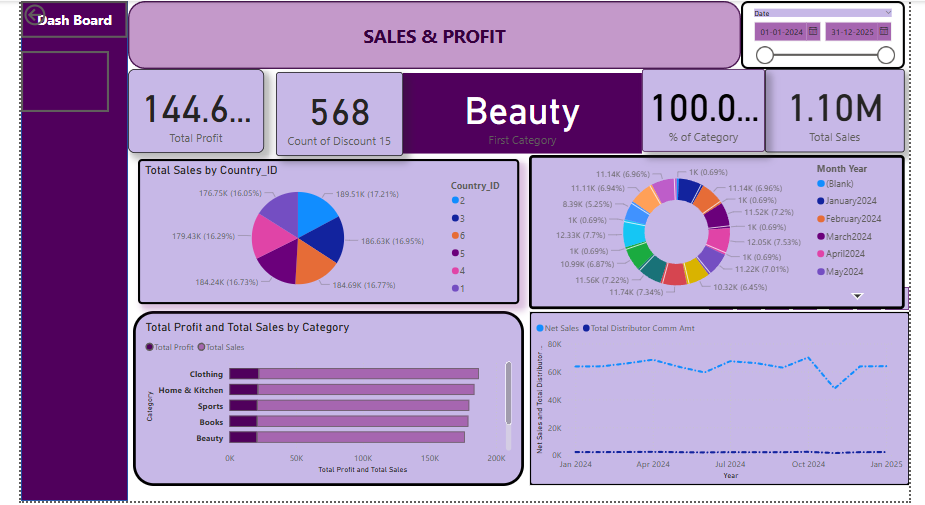

The dashboard page shown, as its layout file describes it:
{"tool":"powerbi","page":{"name":"Page 7","canvas":[1280,720],"ordinal":19},"visuals":[{"type":"shape","box":[0,0,154.1,720],"z":0},{"type":"actionButton","box":[0,0,154.1,53.3],"z":1000},{"type":"shape","box":[154.1,0,882.7,97.9],"z":2000},{"type":"slicer","fields":{"Values":["DateTable_PBI.Date"]},"box":[1036.8,0,236.2,97.9],"z":3000},{"type":"card","fields":{"Values":["Base file.Total Profit"]},"box":[154.1,97.9,195.8,121],"z":4000},{"type":"card","fields":{"Values":["Base file.Total Sales"]},"box":[1071.4,98.6,201.4,120],"z":5000},{"type":"card","fields":{"Values":["Min(Base file.Category)"]},"box":[550,104.3,344.3,115.7],"z":6000},{"type":"barChart","fields":{"Category":["Base file.Category"],"Y":["Base file.Total Profit","Base file.Total Sales"]},"box":[161.3,446.4,563,252],"z":8000},{"type":"actionButton","box":[0,0,100,40],"z":9000},{"type":"lineChart","fields":{"Category":["Dim_Date1Table.Date.Variation.Date Hierarchy.Year","Dim_Date1Table.Date.Variation.Date Hierarchy.Month"],"Y":["Base file.Net Sales","Base file.Total Distributor Comm Amt"]},"box":[731.5,446.4,548.6,252],"z":10000},{"type":"pieChart","fields":{"Y":["Base file.Total Sales"],"Category":["Base file.Country_ID"]},"box":[168.5,227.5,548.6,208.8],"z":11000},{"type":"donutChart","fields":{"Y":["Base file.Total Profit","Base file.Total Target"],"Category":["Dim_Date1Table.Month Year"]},"box":[731.5,221.8,541.4,221.8],"z":12000},{"type":"actionButton","box":[0,72,126.7,87.8],"z":13000},{"type":"card","fields":{"Values":["Base file.Count of Discount 15"]},"box":[367.1,102.9,182.9,121.4],"z":13001},{"type":"card","fields":{"Values":["Base file.% of Category"]},"box":[894.3,98.6,177.1,118.6],"z":13002}]}

Visuals, with their boxes in screenshot pixels (x1, y1, x2, y2):
shape: 19:0:126:499
actionButton: 19:0:126:37
shape: 126:0:738:68
slicer - DateTable_PBI.Date: 738:0:901:68
card - Base file.Total Profit: 126:68:262:152
card - Base file.Total Sales: 762:68:901:151
card - Min(Base file.Category): 400:72:639:152
barChart - Base file.Category x Base file.Total Profit: 131:309:521:484
actionButton: 19:0:89:28
lineChart - Dim_Date1Table.Date.Variation.Date Hierarchy.Year x Dim_Date1Table.Date.Variation.Date Hierarchy.Month: 526:309:906:484
pieChart - Base file.Total Sales x Base file.Country_ID: 136:158:516:302
donutChart - Base file.Total Profit x Base file.Total Target: 526:154:901:307
actionButton: 19:50:107:111
card - Base file.Count of Discount 15: 274:71:400:155
card - Base file.% of Category: 639:68:762:150
